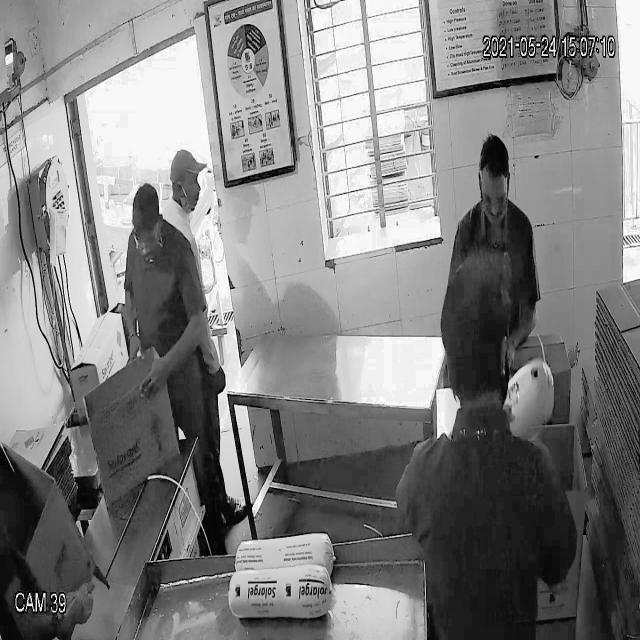glasses: (130, 223, 164, 254)
